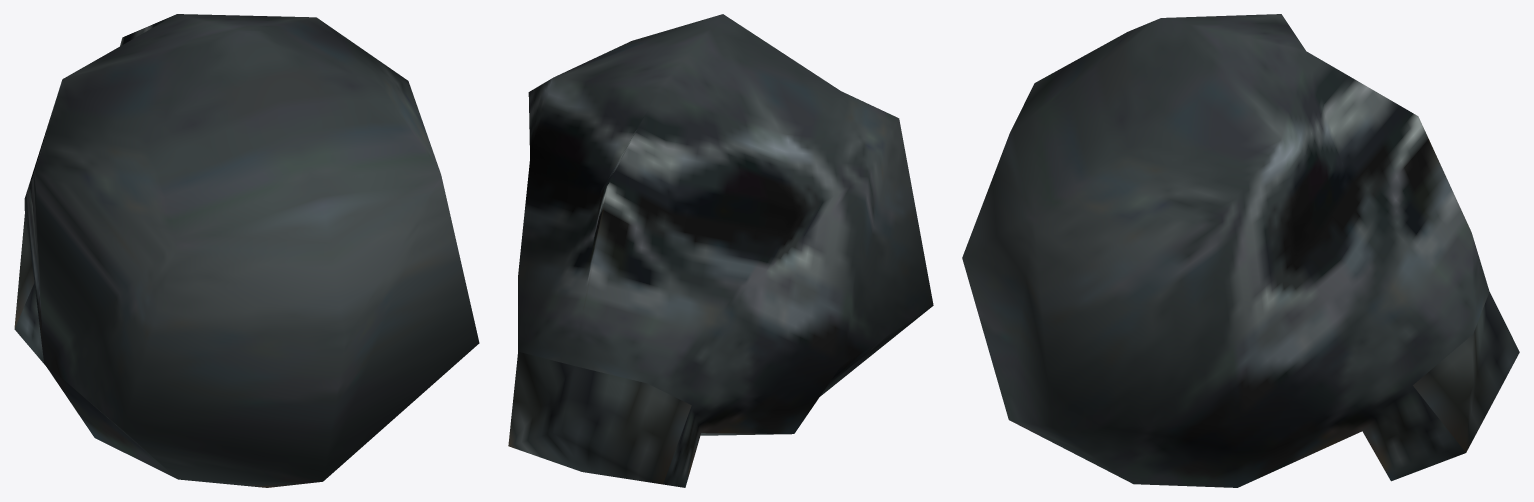
File: environment_common_shitigutou_001_a.FBX
The picture shows the model from 3 angles, left to right: view 1: azimuth 30°, elevation 25°; view 2: azimuth 150°, elevation 25°; view 3: azimuth 270°, elevation 25°; orthographic projection. The views are drawn at different scales.
Visible parts, largest first — view 1: environment_common_shitigutou_001_a; view 2: environment_common_shitigutou_001_a; view 3: environment_common_shitigutou_001_a.
Boxes of the visible parts, box(x1,y1,x2,y2) form: environment_common_shitigutou_001_a: box(14, 14, 479, 487); environment_common_shitigutou_001_a: box(508, 14, 933, 487); environment_common_shitigutou_001_a: box(962, 14, 1519, 487).
Bounding box in the file's own units: 43.56 × 49.24 × 55.31.
